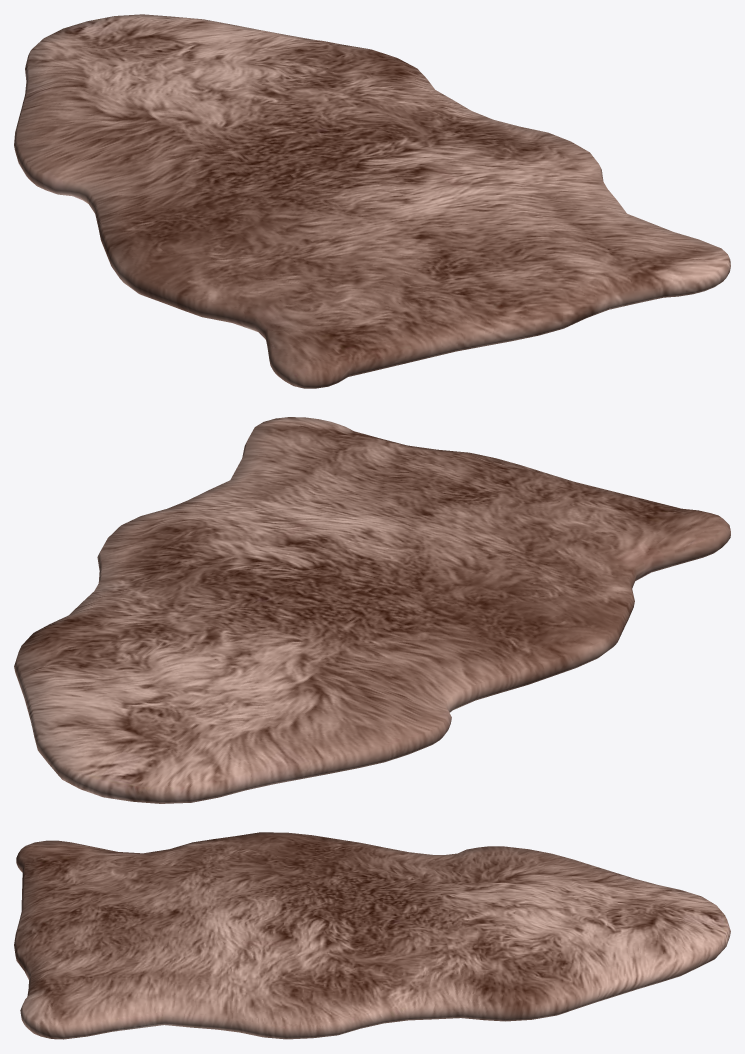
Rendered from 01 - ULLERSLEV Sheepskin - light brown 85 cm.glb.
3 views of the same model, one above another, from view 1: azimuth 30°, elevation 25°; view 2: azimuth 150°, elevation 25°; view 3: azimuth 270°, elevation 25° (orthographic). The views are drawn at different scales.
Visible parts, largest first — view 1: Mesh_0; view 2: Mesh_0; view 3: Mesh_0.
Boxes of the visible parts, x1,y1,x2,y2 form: Mesh_0: [14, 14, 730, 388]; Mesh_0: [14, 417, 730, 803]; Mesh_0: [14, 832, 730, 1039].
Bounding box in the file's own units: 0.55 × 0.0496 × 0.85.
1 material, 1 textured.
